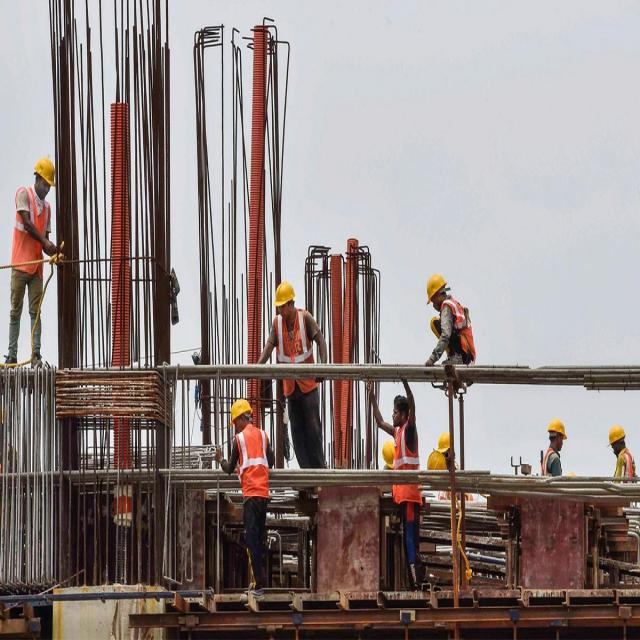Reflective-Jacket: (272, 308, 318, 394), (9, 186, 52, 275), (433, 296, 477, 359), (235, 427, 271, 498), (393, 419, 420, 469), (614, 446, 636, 479), (542, 448, 561, 476)
Safety-Helmet: (32, 154, 58, 188), (425, 270, 450, 300), (273, 277, 298, 307), (230, 397, 253, 420), (547, 415, 569, 437), (607, 422, 626, 444), (382, 438, 396, 466), (437, 429, 452, 451)
